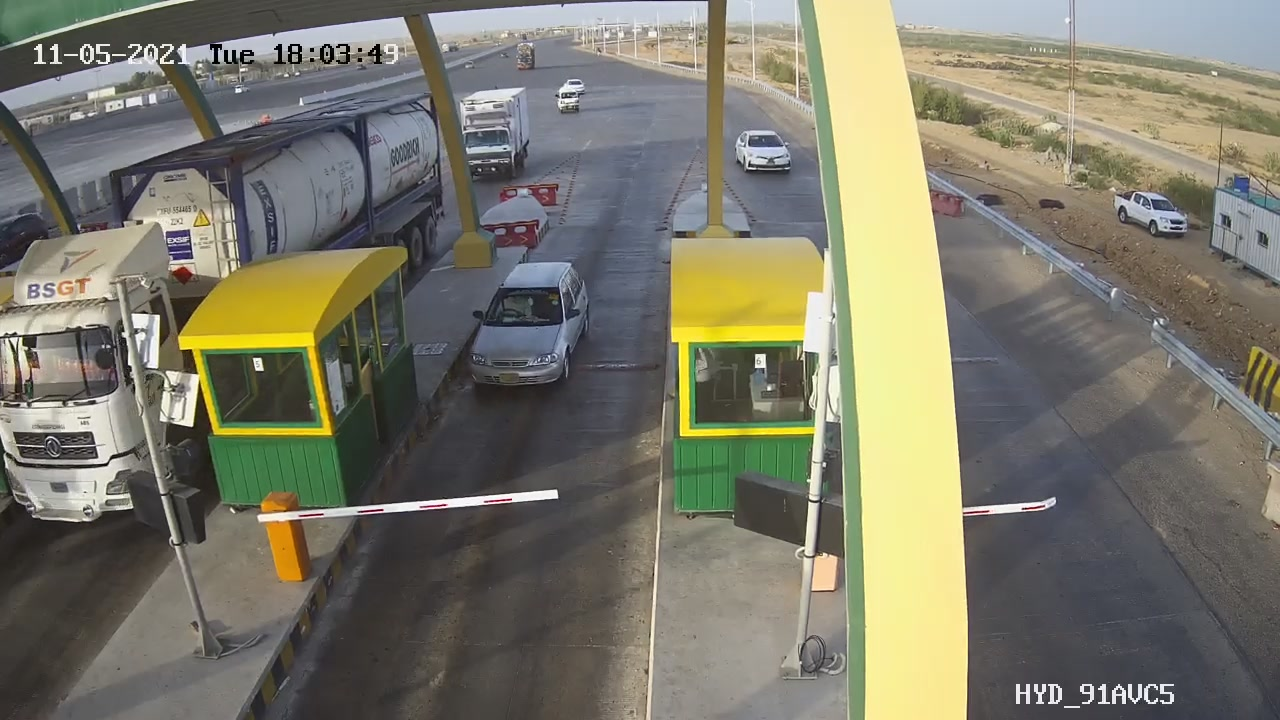F1: (438, 236, 611, 414)
